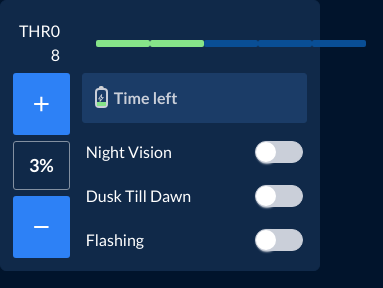
Control widget component › Subtract button disabled when brightness reaches 1
Step 1. Click the button with test id "subtract-button" → click(41, 227), box [13,196,70,258]
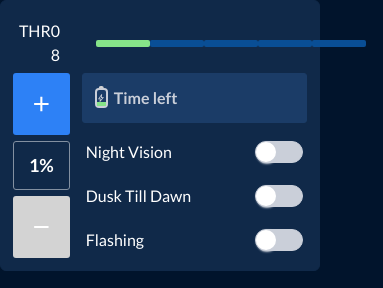
Expected: the button with test id "subtract-button" is disabled, [13,196,70,258]
